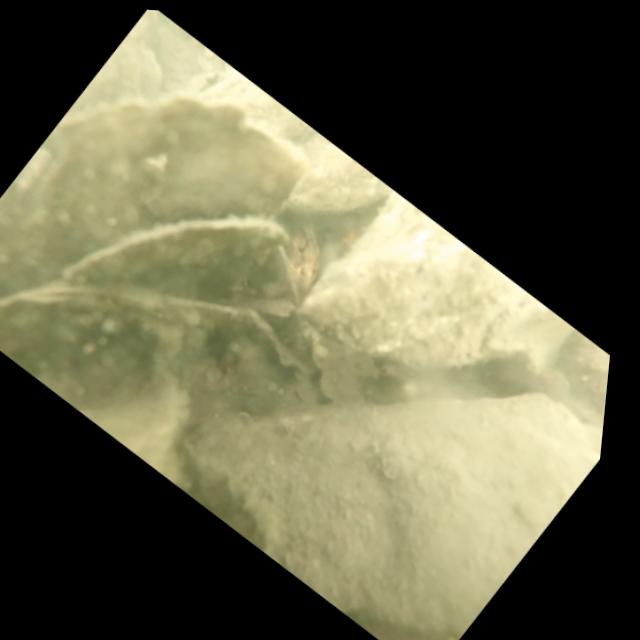Oyster-Closed: (280, 182, 587, 458)
Oyster-Indeterminate: (140, 220, 620, 640), (0, 19, 327, 351)
Oyster-Open: (47, 136, 332, 405), (0, 222, 259, 485)
